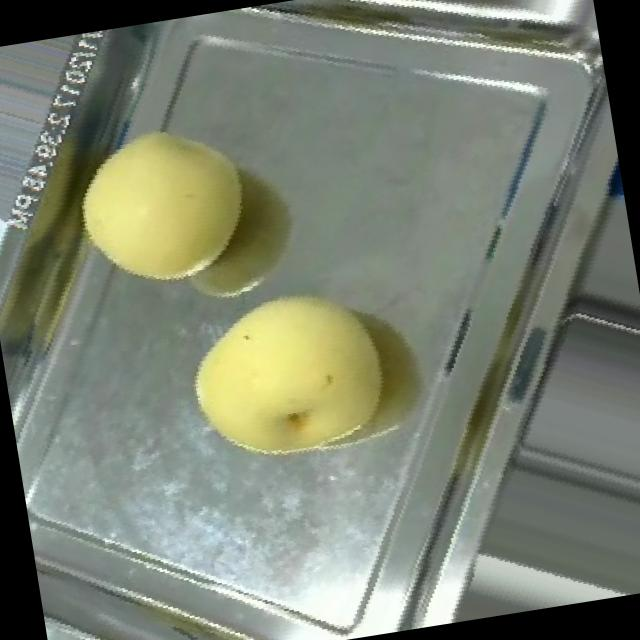Fruit: (150, 243, 428, 498), (51, 94, 276, 316)
